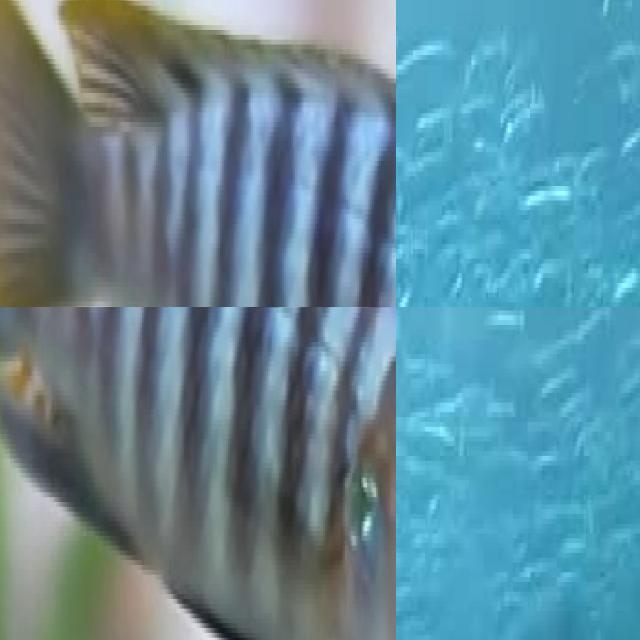fish: (0, 0, 396, 307)
